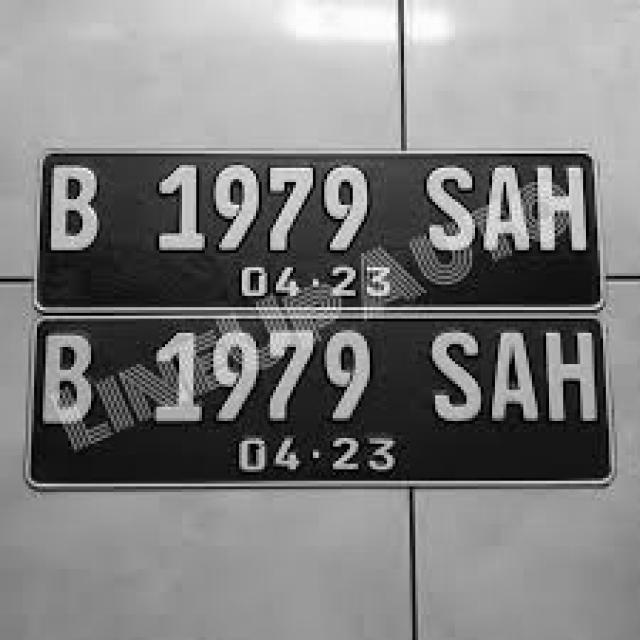1: (140, 160, 207, 261), (156, 330, 207, 431)
7: (262, 330, 318, 428), (266, 161, 316, 250)
9: (206, 160, 266, 262), (209, 332, 262, 426), (323, 330, 372, 424), (321, 166, 366, 256)
A: (486, 328, 546, 424), (480, 158, 532, 266)
B: (40, 156, 114, 264), (40, 331, 96, 433)
H: (528, 158, 592, 262), (540, 328, 598, 424)
S: (416, 160, 482, 268), (424, 328, 482, 421)
